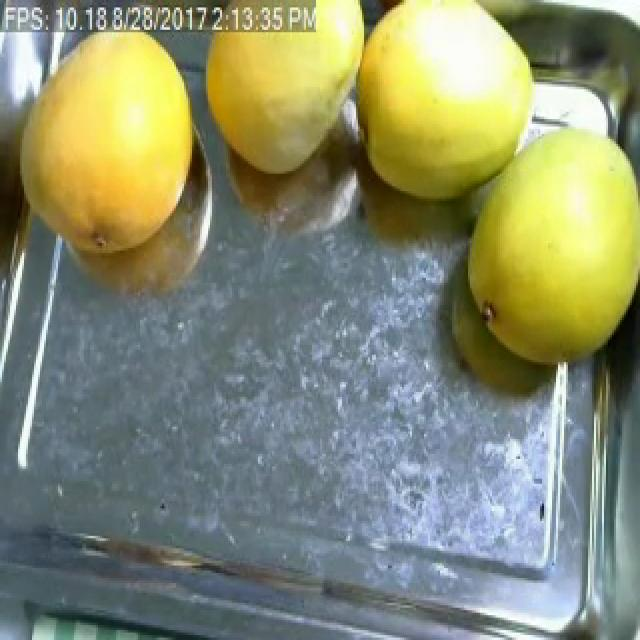fruit: (448, 102, 640, 380), (330, 0, 562, 226), (4, 30, 212, 275), (190, 15, 376, 191)
